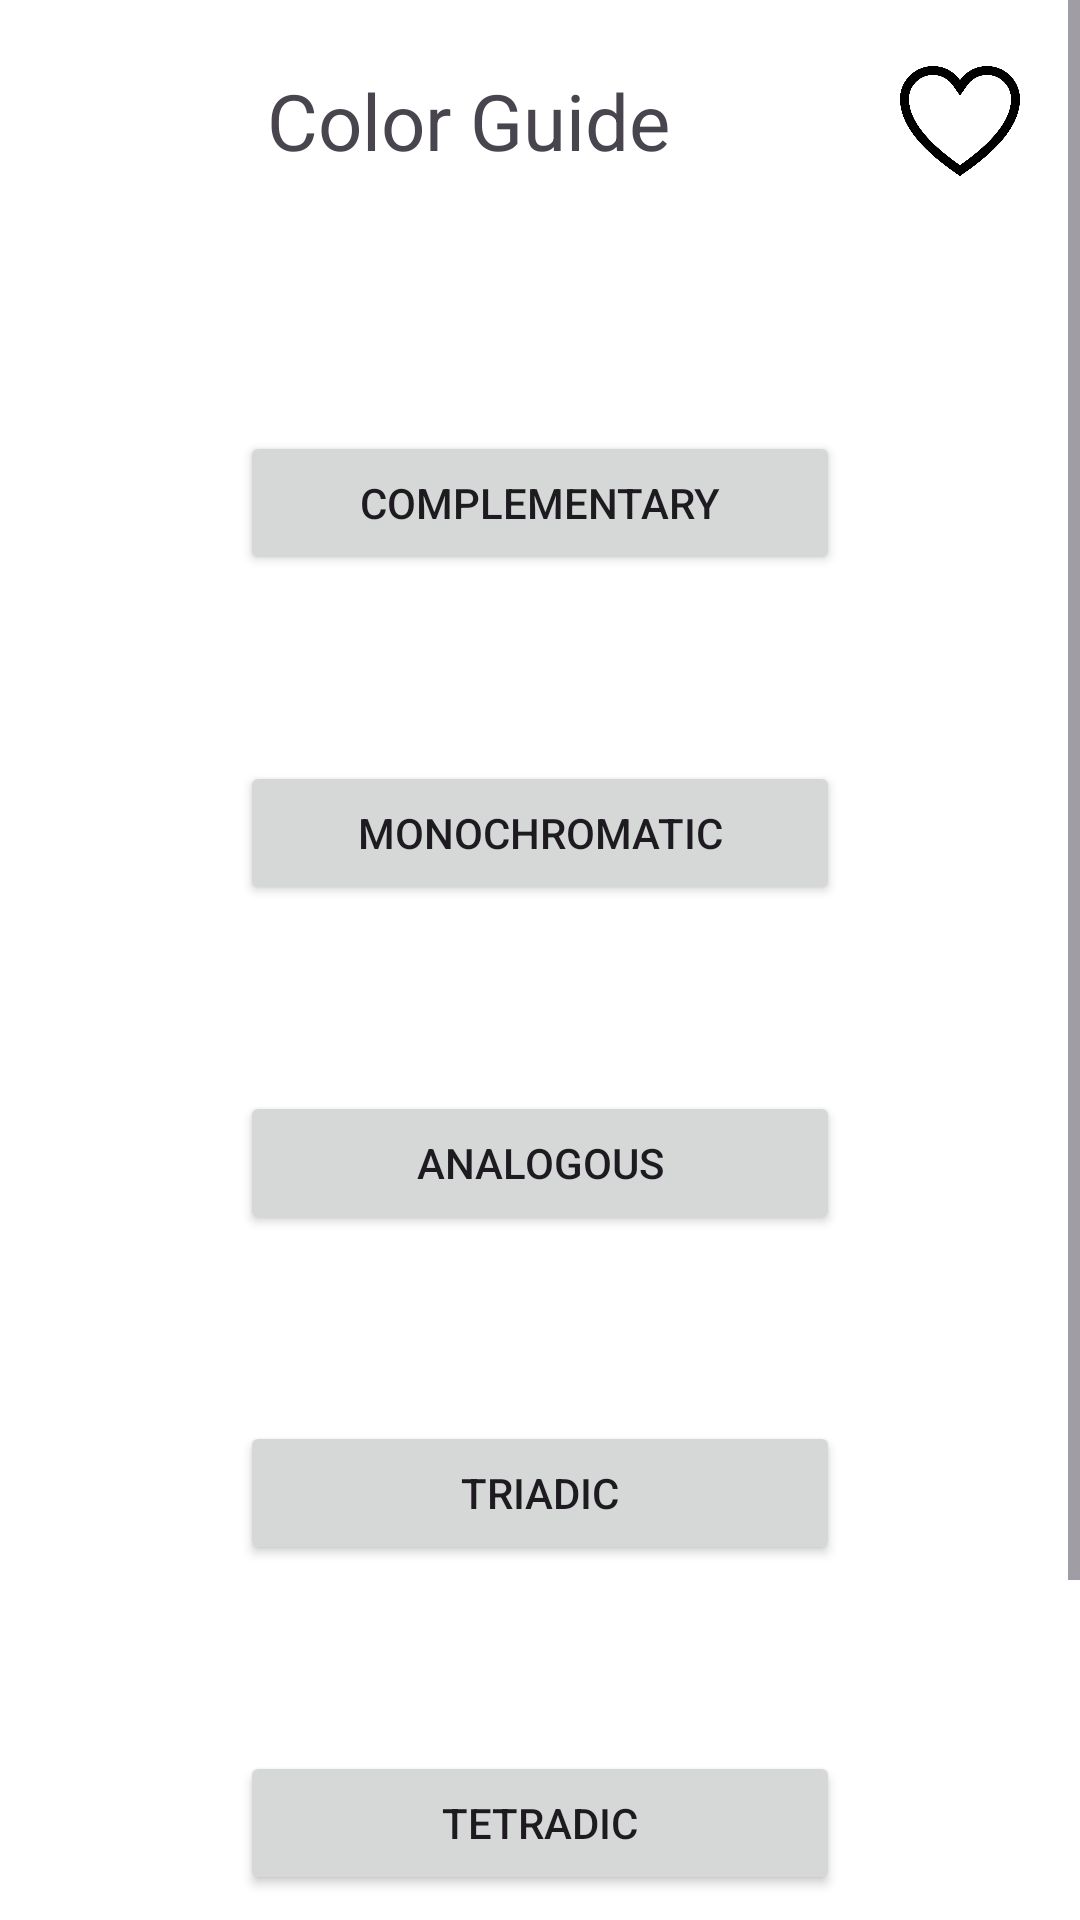

Named icons in this screenshot (1080x1920) and their centers, (x=x, y=y):
Favorites: (x=960, y=121)
